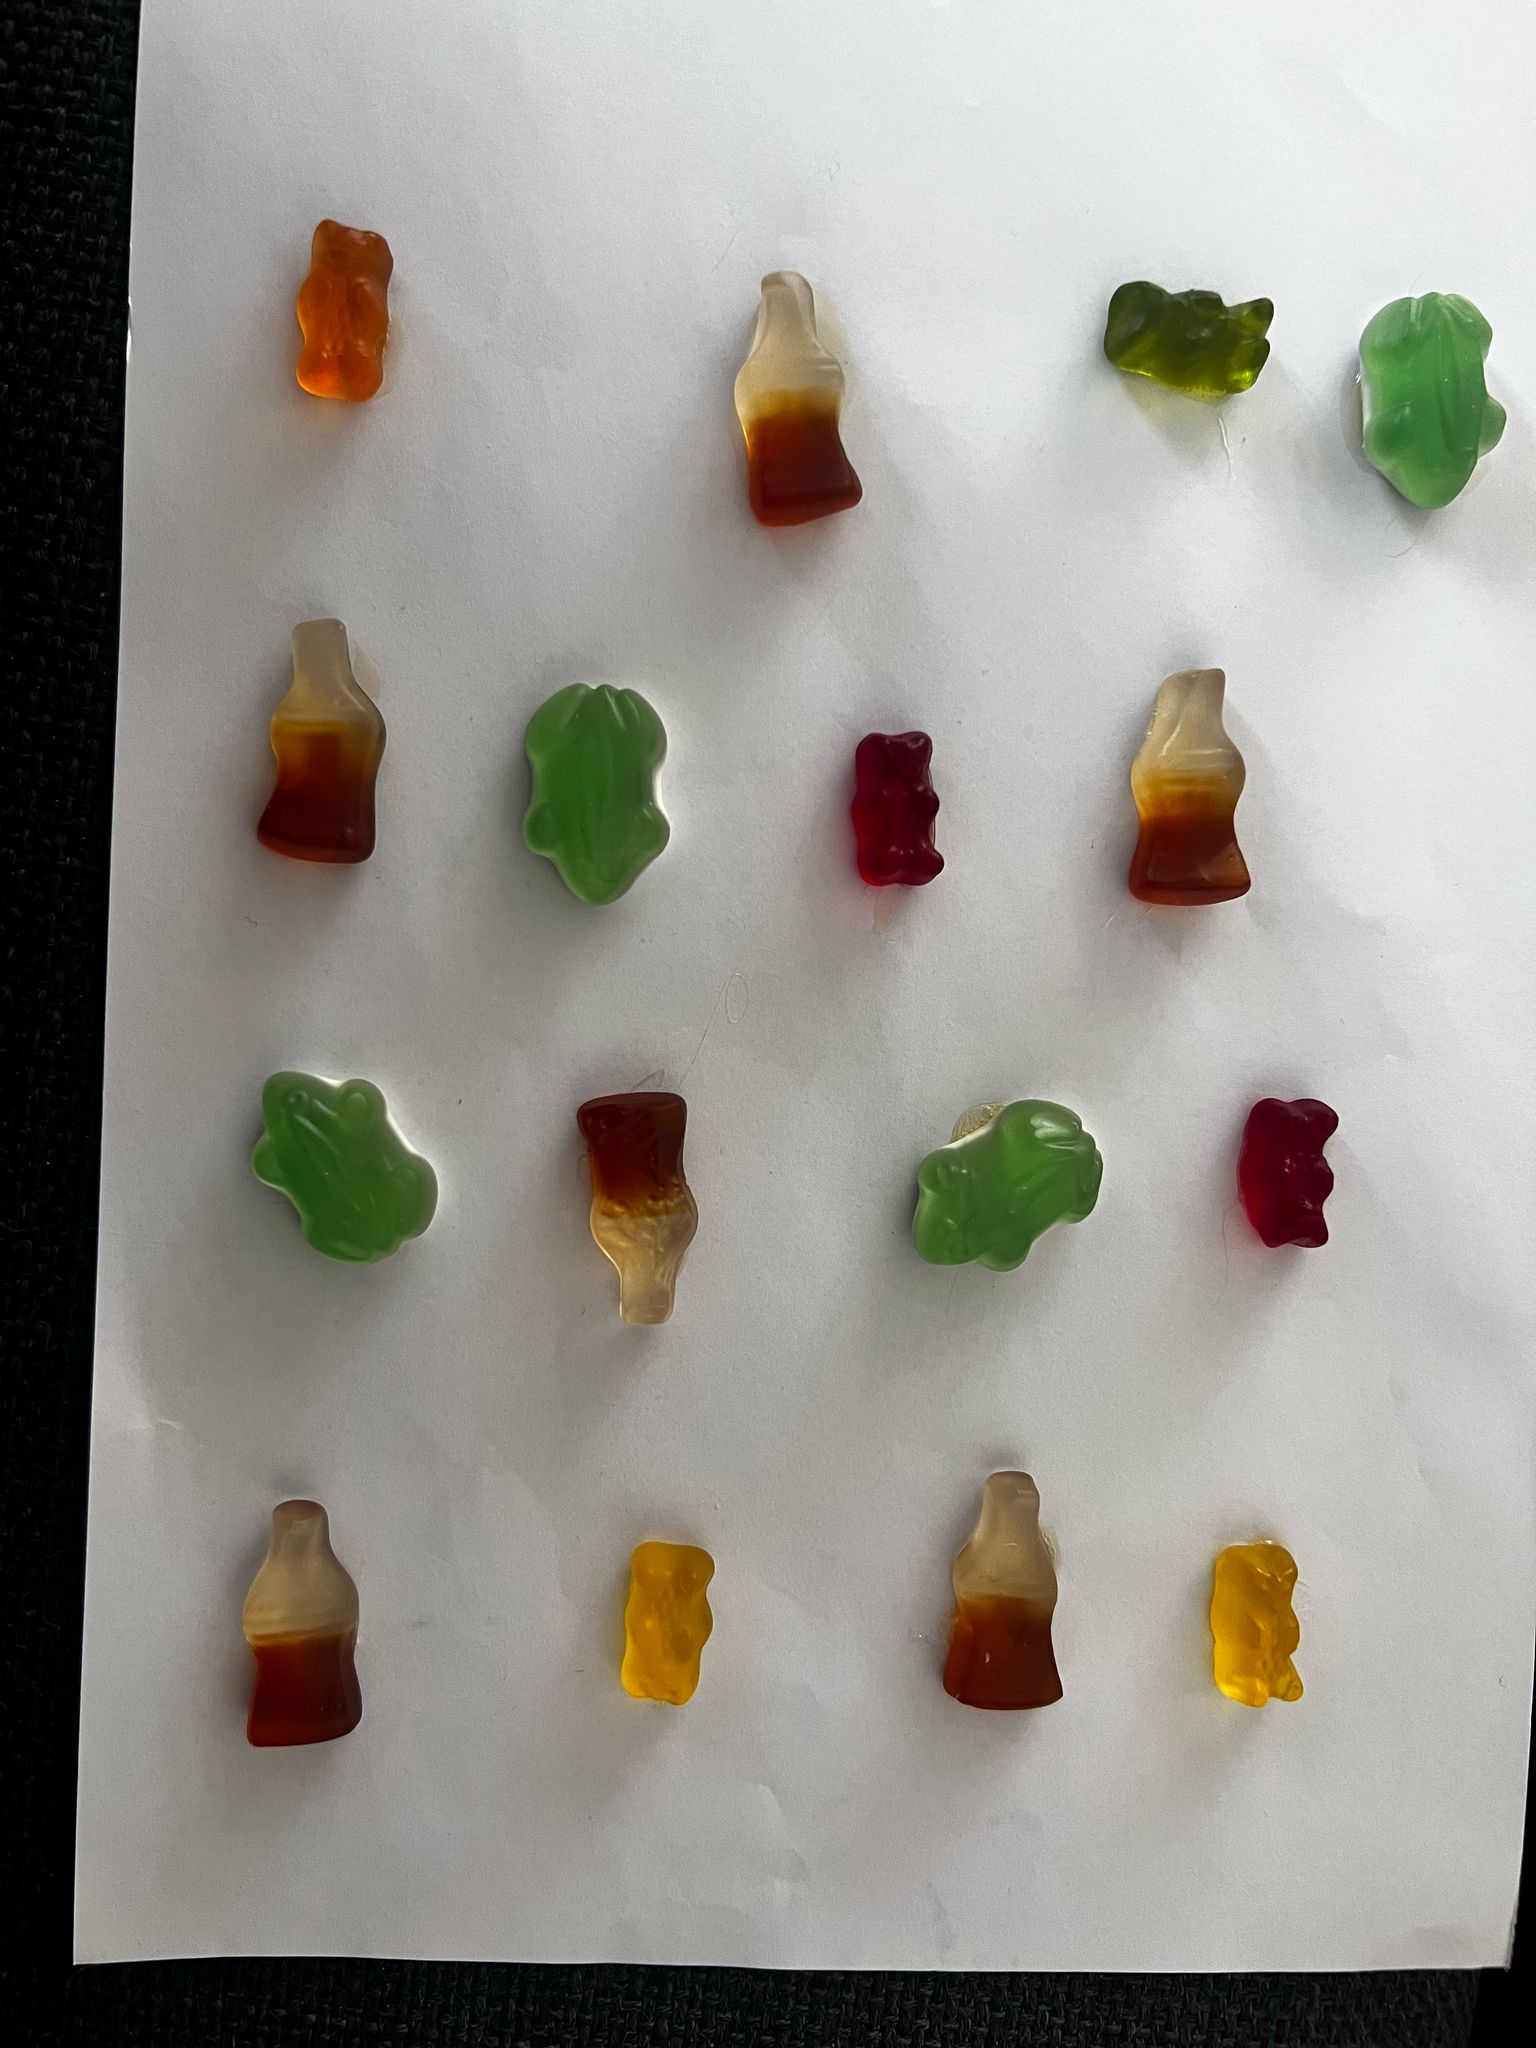cola: (723, 263, 870, 542), (252, 613, 394, 880), (231, 1493, 369, 1759), (570, 1085, 720, 1327), (937, 1459, 1071, 1722), (1121, 663, 1263, 910)
frog: (229, 1059, 457, 1272), (905, 1087, 1108, 1274), (516, 681, 678, 910), (1354, 287, 1507, 527)
gummybear: (1100, 261, 1284, 410), (286, 210, 405, 410), (1228, 1085, 1346, 1266), (610, 1530, 721, 1719), (1200, 1534, 1309, 1722), (845, 727, 945, 900)
